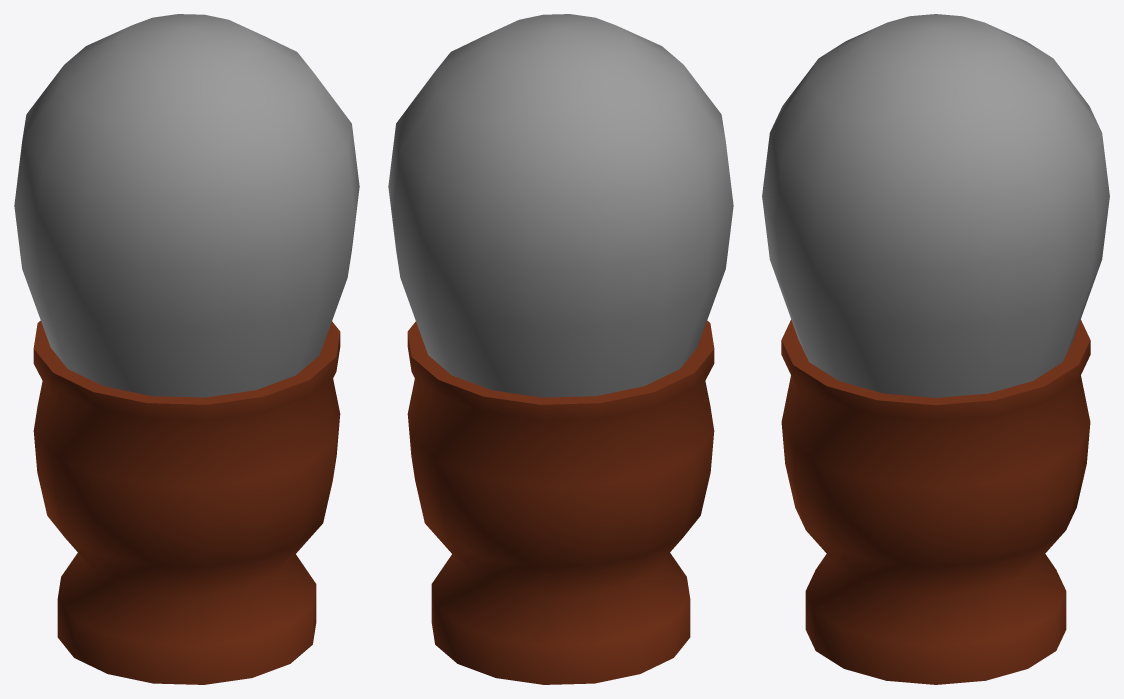
File: flower_pot.FBX
3 renders of one model, left to right at view 1: azimuth 30°, elevation 25°; view 2: azimuth 150°, elevation 25°; view 3: azimuth 270°, elevation 25°, orthographic.
Parts seen in each view (by area): view 1: flower_pot_flowers, pot; view 2: flower_pot_flowers, pot; view 3: flower_pot_flowers, pot.
Part boxes in pixels (x1=…): flower_pot_flowers: x1=14, y1=14, x2=359, y2=397; pot: x1=33, y1=320, x2=340, y2=684; flower_pot_flowers: x1=388, y1=14, x2=733, y2=397; pot: x1=407, y1=320, x2=714, y2=684; flower_pot_flowers: x1=762, y1=14, x2=1109, y2=397; pot: x1=781, y1=319, x2=1090, y2=684.
Bounding box in the file's own units: 60.24 × 115 × 60.24.
